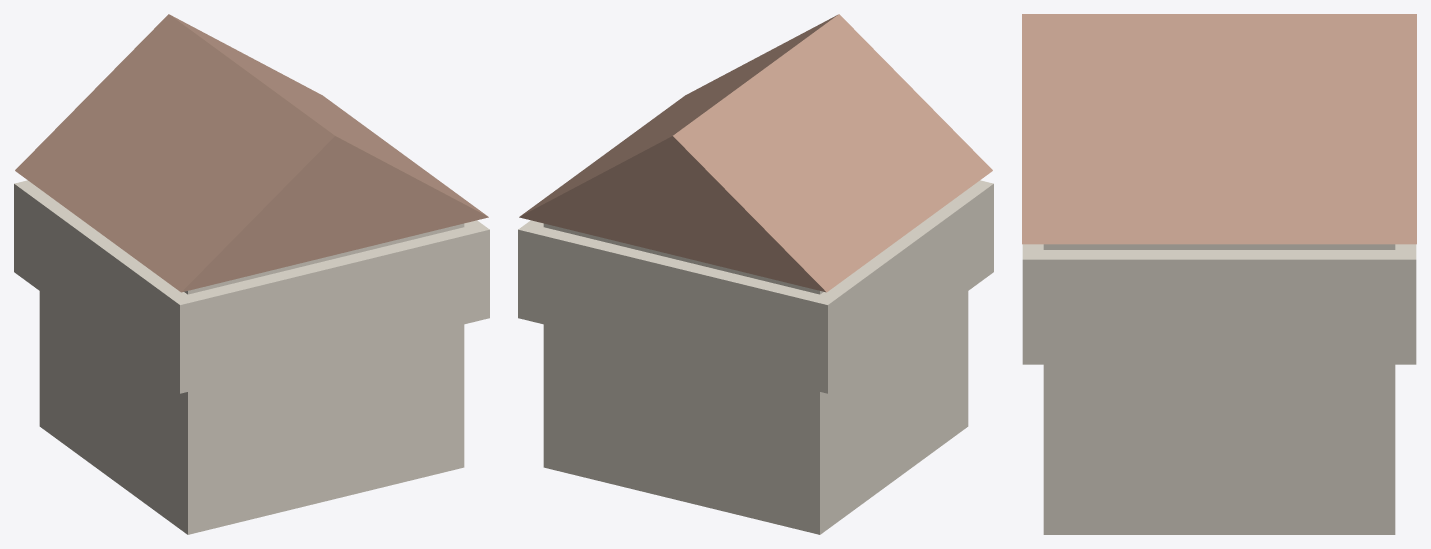
The model's file is townhouse_b.glb.
3 views of the same model, side by side, from view 1: azimuth 30°, elevation 25°; view 2: azimuth 150°, elevation 25°; view 3: azimuth 270°, elevation 25° (orthographic). The views are drawn at different scales.
Visible parts, largest first — view 1: townhouse_b; view 2: townhouse_b; view 3: townhouse_b.
Boxes of the visible parts, x1,y1,x2,y2 form: townhouse_b: (14, 14, 489, 534); townhouse_b: (518, 14, 993, 534); townhouse_b: (1022, 14, 1416, 534).
Size of the model in its own units: 7.84 by 9 by 7.3.
